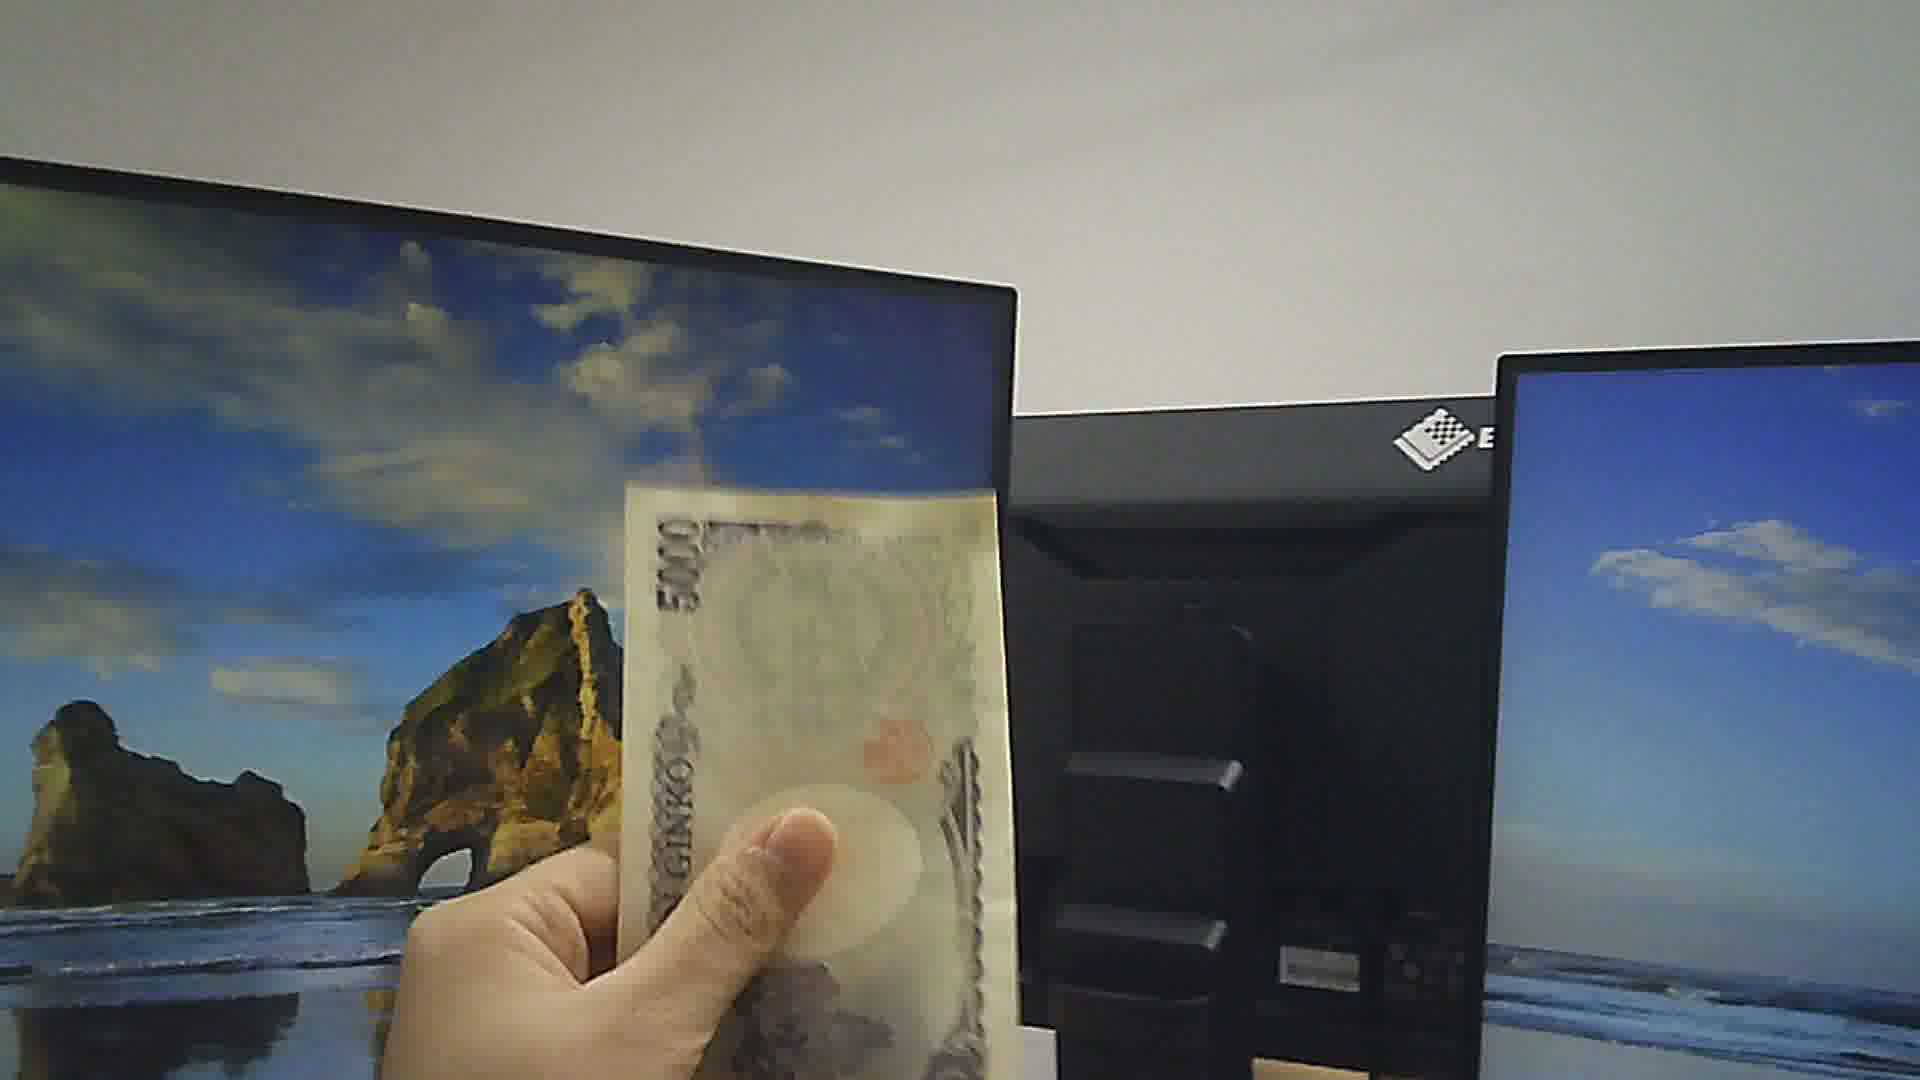5,000 Yen: (612, 469, 1029, 1075)
